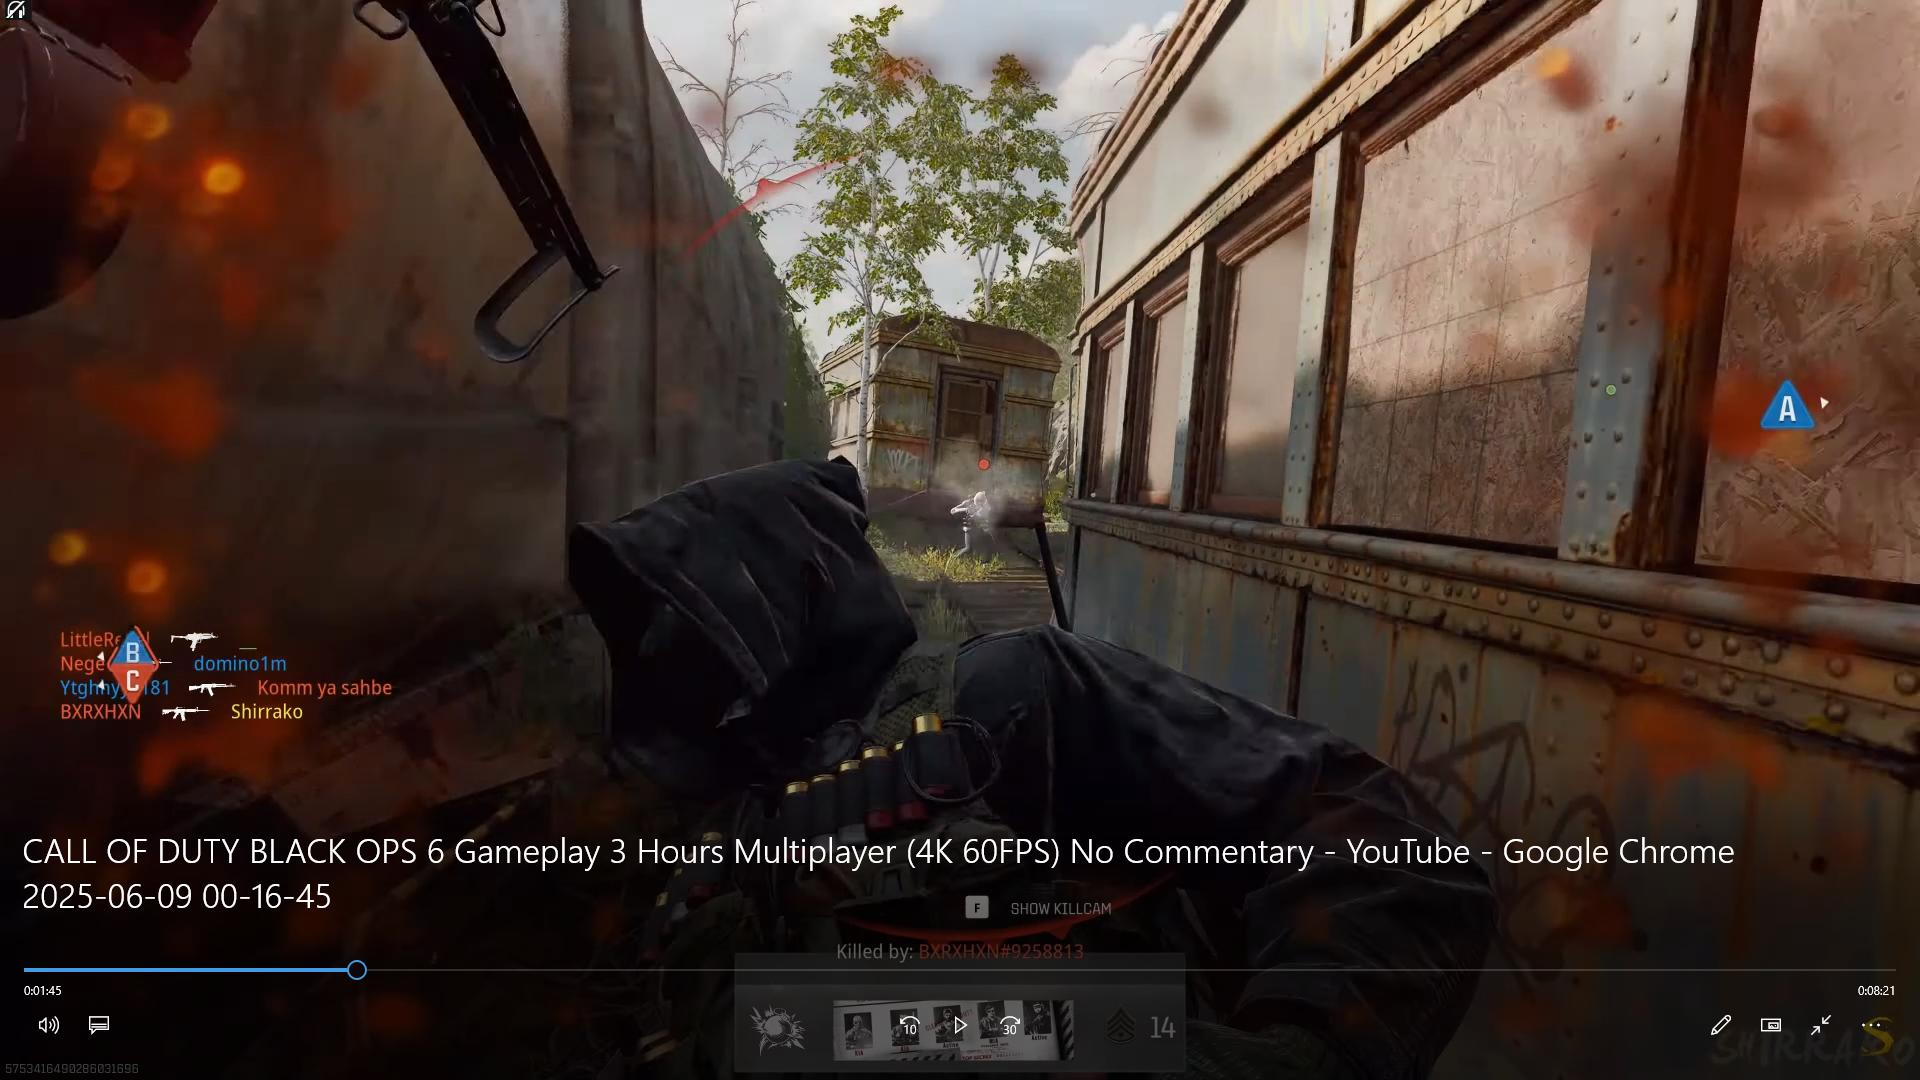Enemy: (948, 493, 1001, 564)
